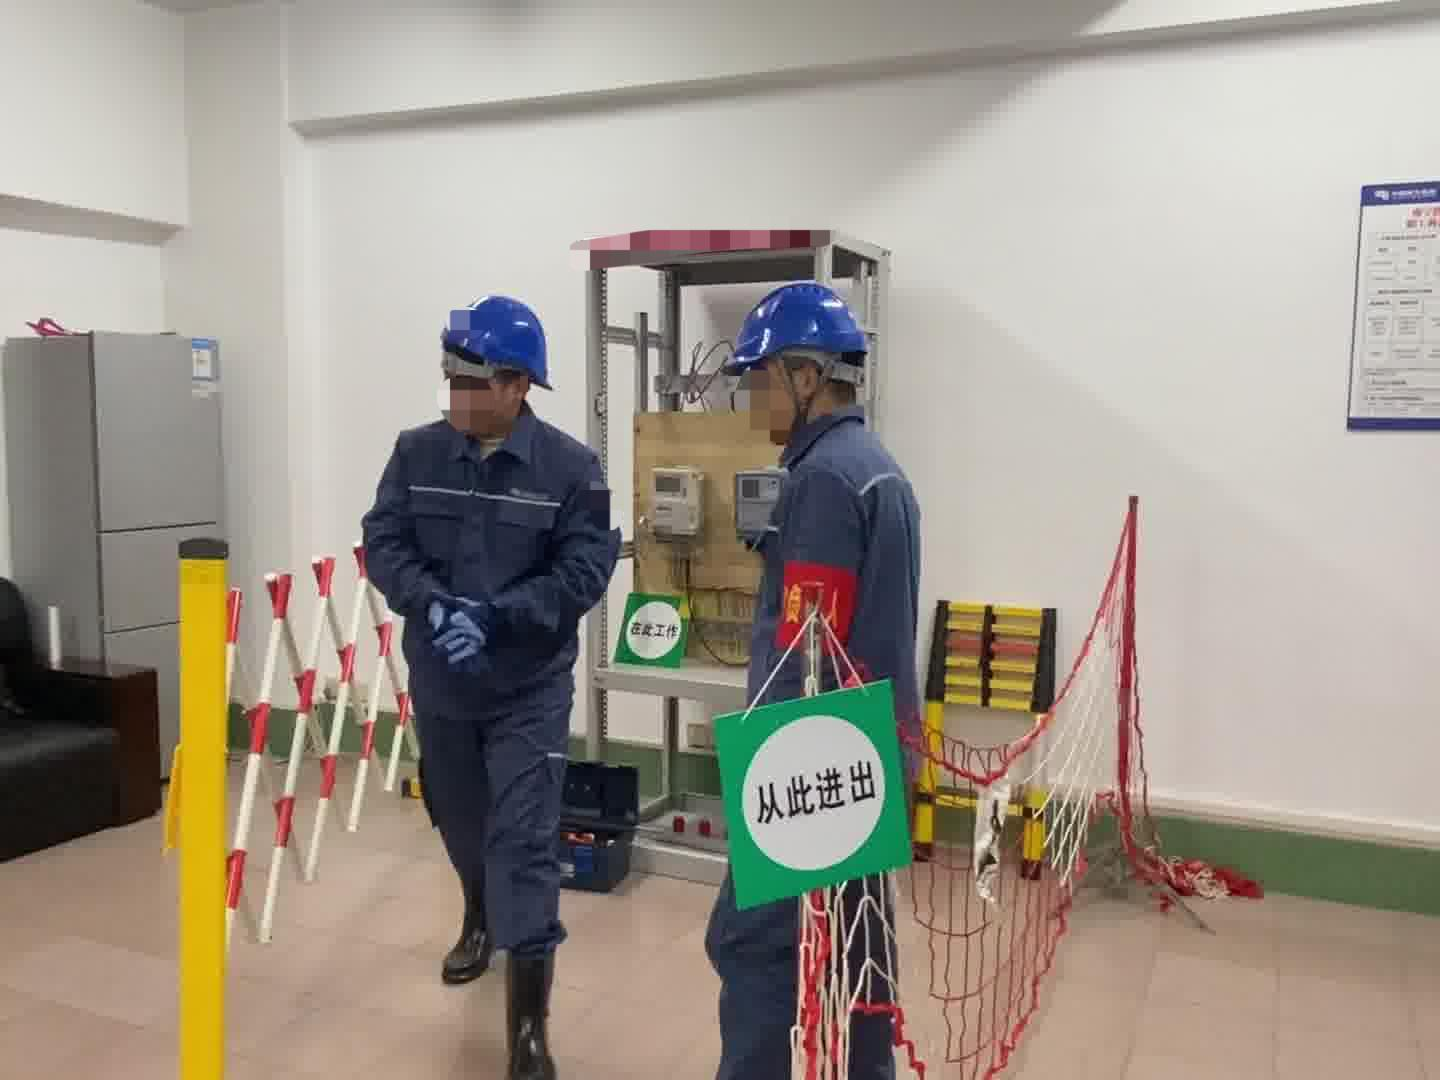halt: (729, 282, 875, 440)
inear: (774, 353, 835, 417)
noear: (492, 370, 537, 413)
